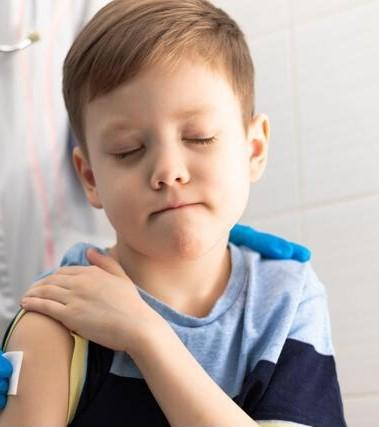Healthy: (46, 0, 277, 284)
